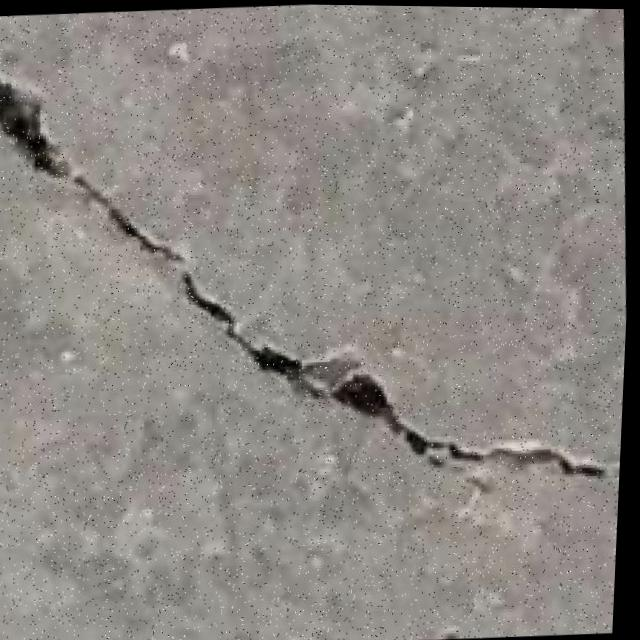Crack: (0, 30, 639, 533)
